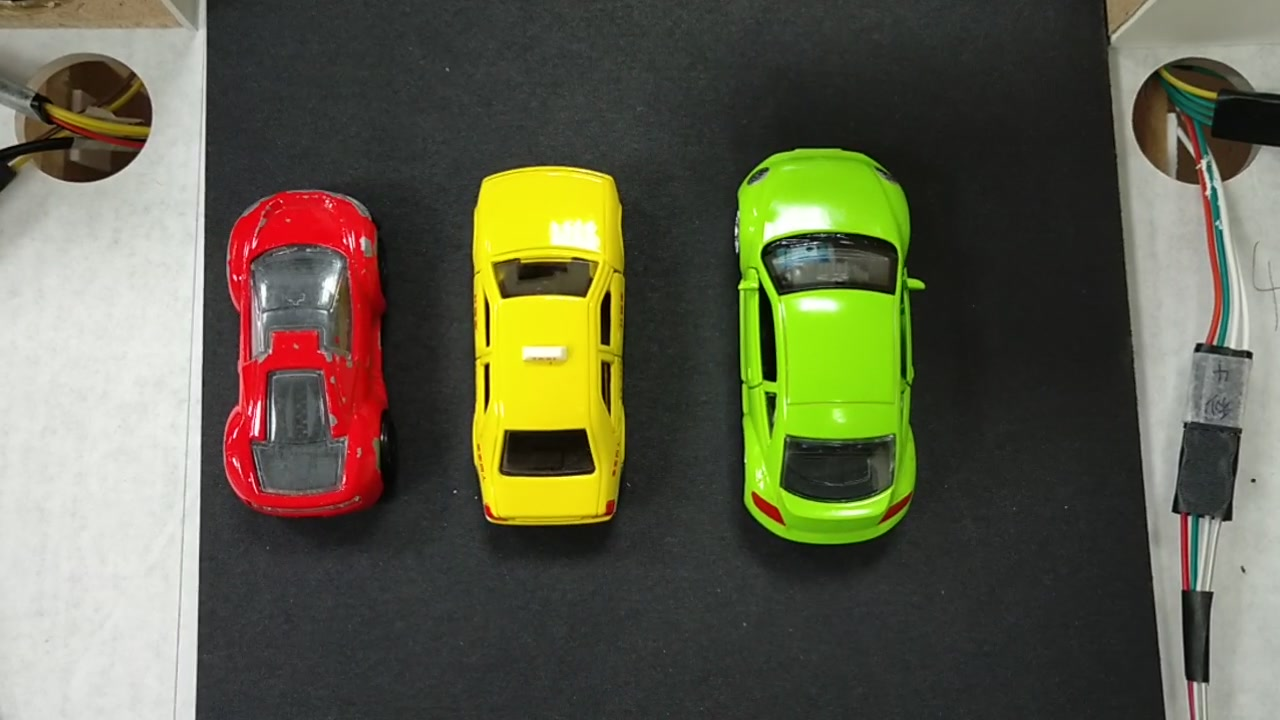car: (743, 153, 917, 546), (476, 174, 624, 525), (232, 204, 375, 511)
